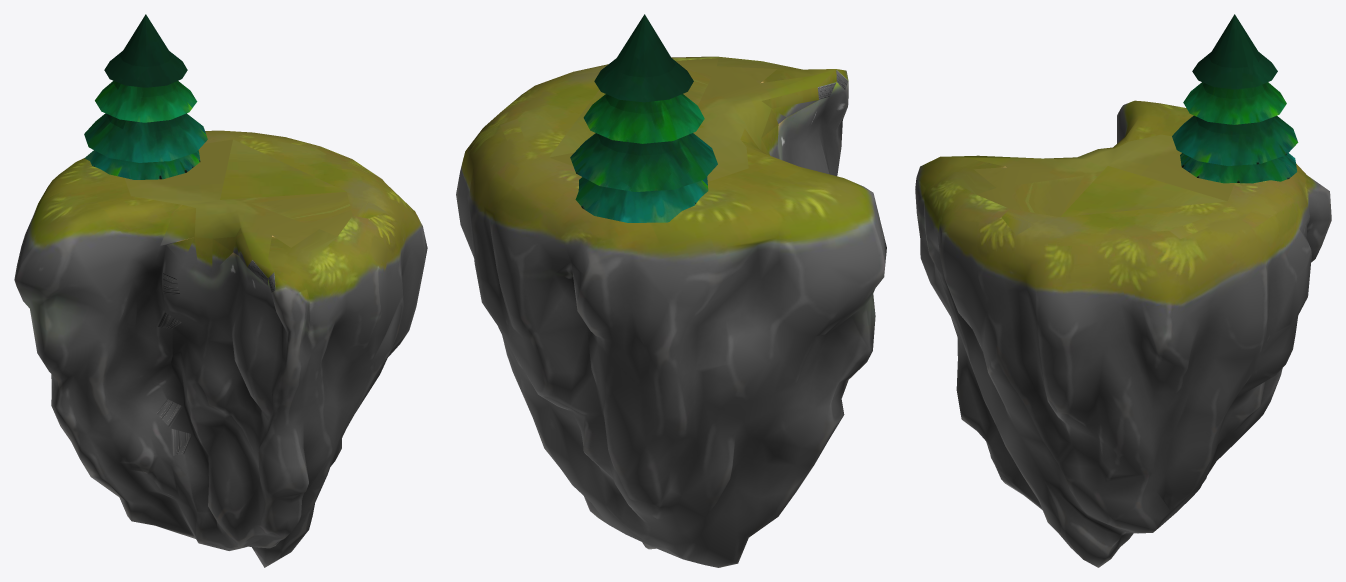
File: floting island.fbx
The picture shows the model from 3 angles, left to right: view 1: azimuth 30°, elevation 25°; view 2: azimuth 150°, elevation 25°; view 3: azimuth 270°, elevation 25°; orthographic projection. The views are drawn at different scales.
Parts seen in each view (by area): view 1: defaultMaterial.035, defaultMaterial.063; view 2: defaultMaterial.035, defaultMaterial.063; view 3: defaultMaterial.035, defaultMaterial.063.
Boxes of the visible parts, x1,y1,x2,y2 form: defaultMaterial.035: (14, 130, 427, 567); defaultMaterial.063: (84, 14, 207, 179); defaultMaterial.035: (456, 56, 886, 567); defaultMaterial.063: (570, 14, 717, 222); defaultMaterial.035: (915, 100, 1331, 567); defaultMaterial.063: (1172, 14, 1298, 183).
Bounding box in the file's own units: 136 × 185 × 134.
Materials: 2 (2 with a texture image).
